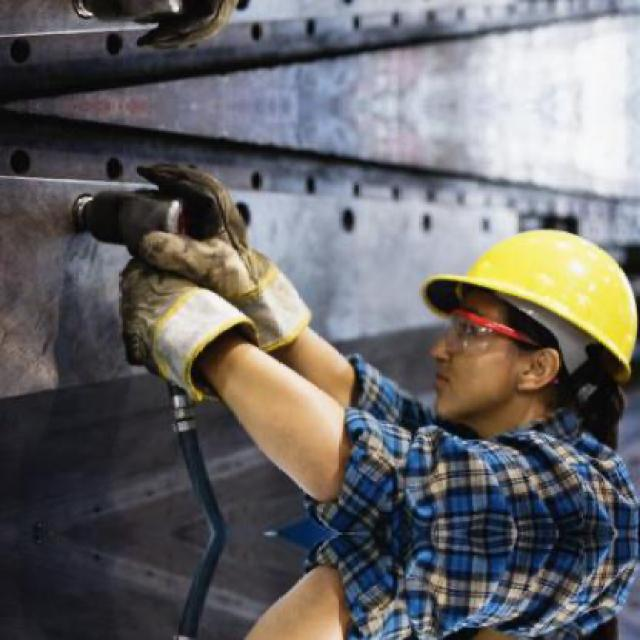helmet: (414, 208, 640, 440)
